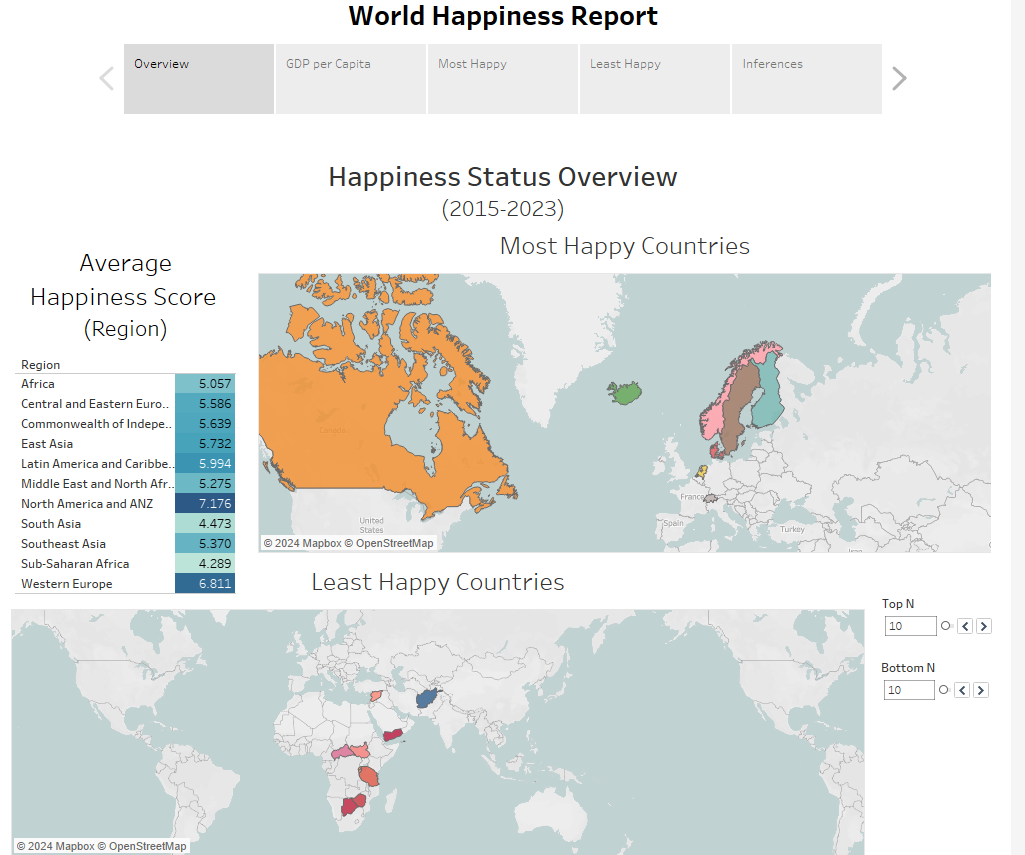

Layout of this report page (visuals, bound fields, positions):
{"tool":"tableau","page":{"name":"Happiness Dashboard","canvas":[1000,1000],"units":"permille","ordinal":0},"visuals":[{"type":"title","box":[6.9,8,986.2,95]},{"type":"worksheet","title":"Avg Happiness by Region","mark":"Square","rows":["region"],"box":[6.9,103,986.2,889]},{"type":"worksheet","title":"Most Happy","mark":"Multipolygon","box":[254.7,111,733.6,406]},{"type":"worksheet","title":"Least Happy","mark":"Multipolygon","box":[8.5,526,854.3,365]},{"type":"parameter","param":"[Parameters].[Parameter 1]","box":[879.4,569,113.2,67]},{"type":"parameter","param":"[Parameters].[Parameter 2]","box":[877.6,648,110.7,67]}]}

Visuals, with their boxes on the dashboard's canvas, which has no fixed pixel size, in thousandths of its width and height (x1, y1, x2, y2). These are canvas units, not pixel positions in the 1025x855 screenshot, which may show the page scaled, cropped or inside an application window:
title: 7,8,993,103
"Avg Happiness by Region" worksheet (Square marks): 7,103,993,992
"Most Happy" worksheet (Multipolygon marks): 255,111,988,517
"Least Happy" worksheet (Multipolygon marks): 8,526,863,891
parameter: 879,569,993,636
parameter: 878,648,988,715
